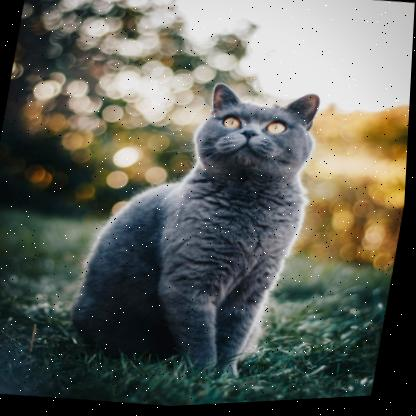cat: (52, 61, 328, 399)
